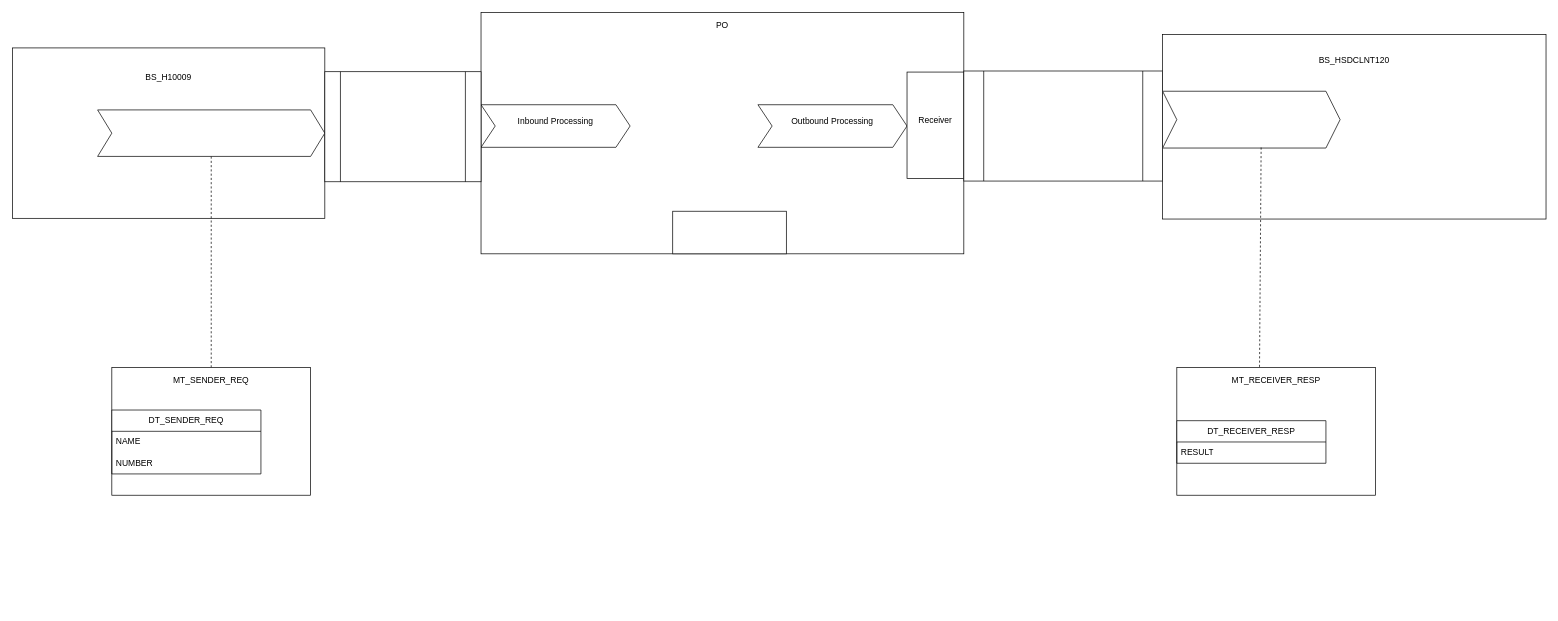
The diagram is 1558 pixels wide and 621 high, and some of its shapes have lost their labels. Each missing label, with the centre of its shape:
"Communication Channel CC_RFC_REST_SENDER" belongs at point 402,126.
"Communication Channel CC_SAP_PROXY_RECEIVER_120" belongs at point 1063,125.
"Inbound Service Interface SI_Receiver_Inbound" belongs at point 1251,119.
"Integration Configuration" belongs at point 729,232.
"Outbound Service Interface SI_Sender_Req" belongs at point 211,132.
